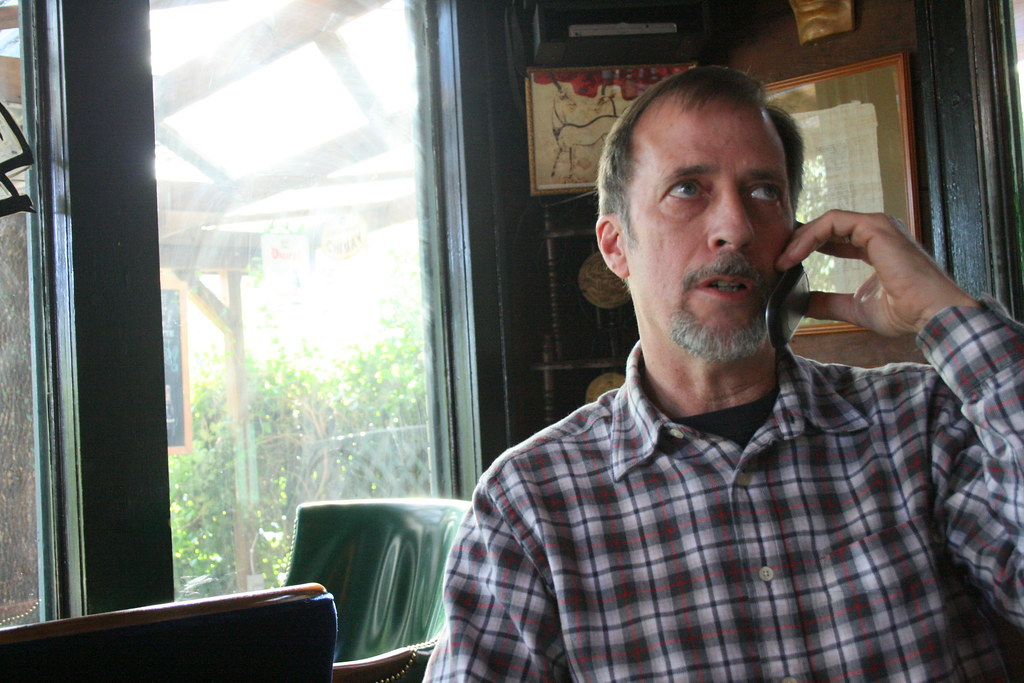phone: (760, 226, 845, 350)
talk: (633, 136, 906, 398)
